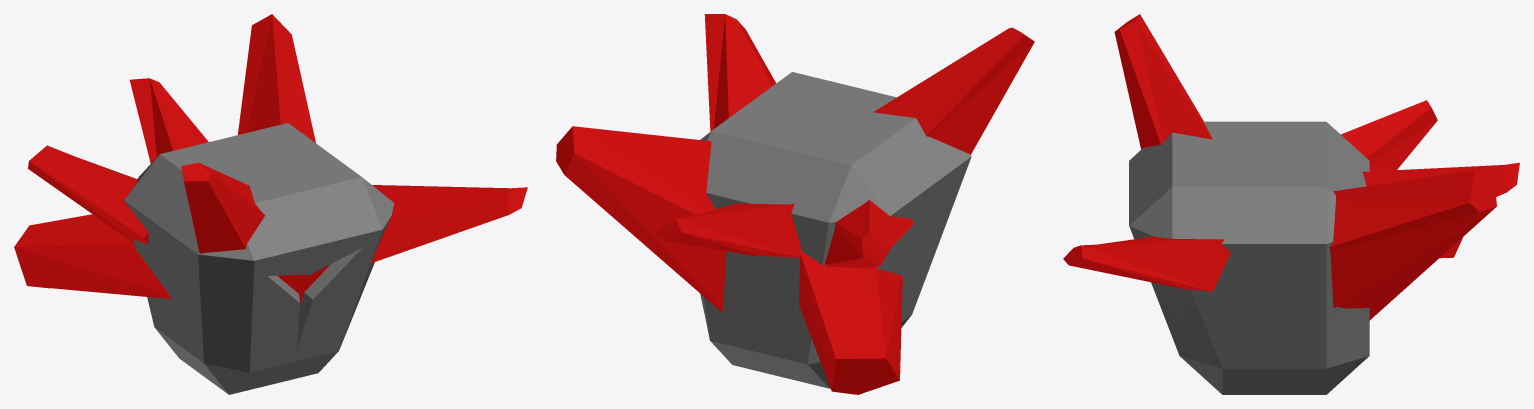
The model's file is Crystal Monster Head.fbx.
3 renders of one model, left to right at view 1: azimuth 30°, elevation 25°; view 2: azimuth 150°, elevation 25°; view 3: azimuth 270°, elevation 25°, orthographic. The views are drawn at different scales.
Parts seen in each view (by area): view 1: Box022; view 2: Box022; view 3: Box022.
Boxes of the visible parts, left/top/right/bottom form: Box022: left=14, top=14, right=527, bottom=394; Box022: left=556, top=14, right=1034, bottom=394; Box022: left=1063, top=14, right=1519, bottom=394.
Size of the model in its own units: 23.44 by 18.49 by 26.19.
